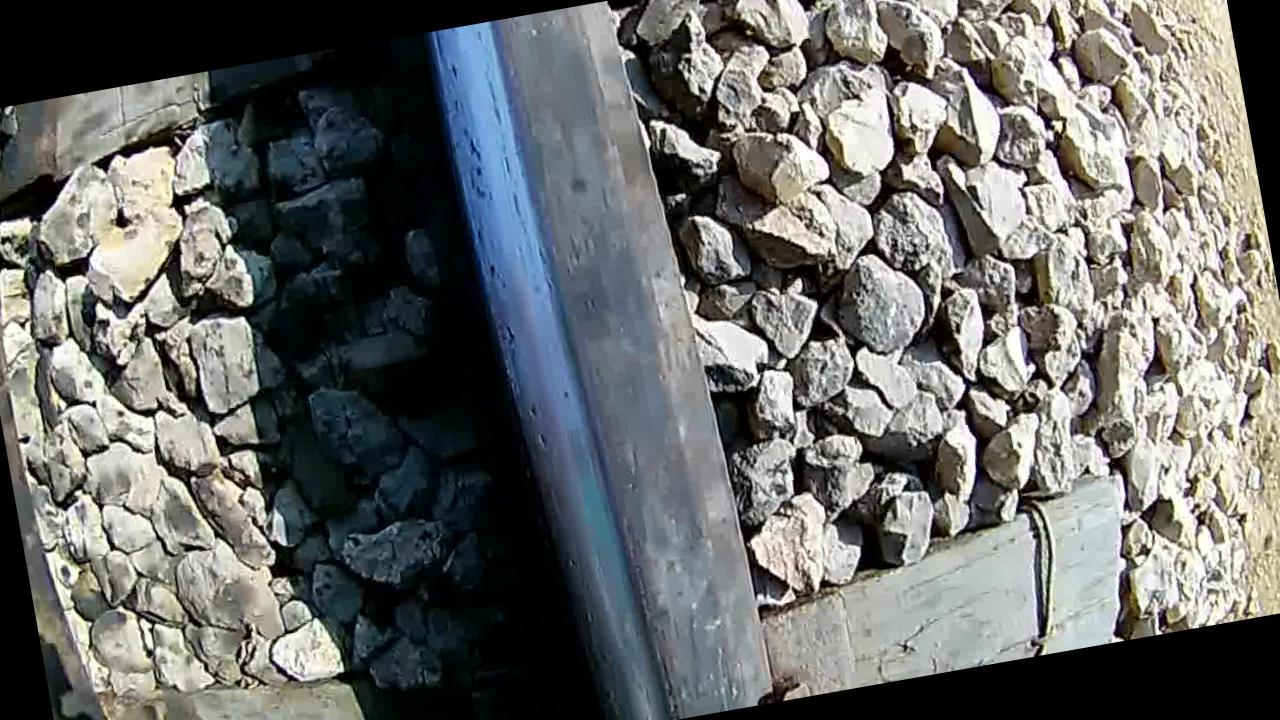crack: (427, 1, 730, 720)
